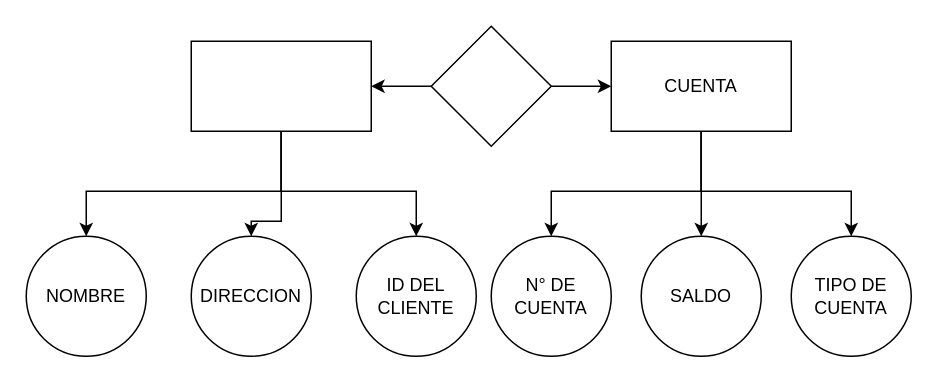
Some shapes in this 938 by 383 pixel diagram are drawn without their labels. Each missing label, with the box of its shape:
CLIENTE: (190, 40, 371, 131)
RELACION: (430, 25, 551, 146)
